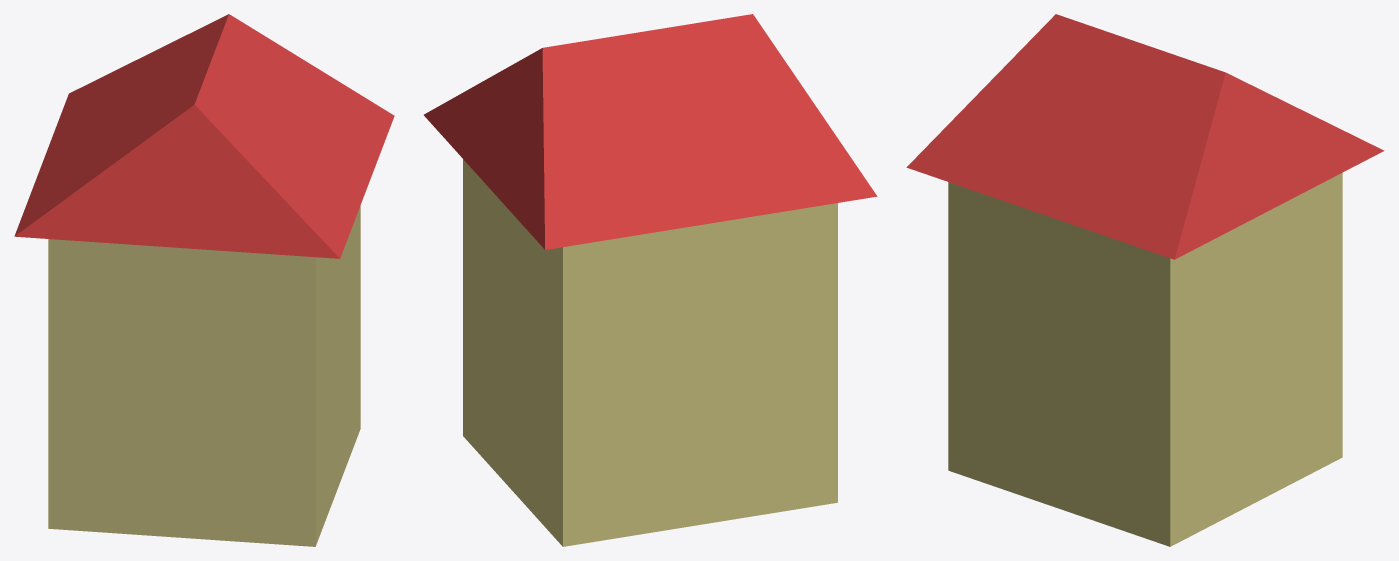
3 views of the same model, side by side, from view 1: azimuth 30°, elevation 25°; view 2: azimuth 150°, elevation 25°; view 3: azimuth 270°, elevation 25° (orthographic). The views are drawn at different scales.
Parts seen in each view (by area): view 1: group_5, group_3, group_4; view 2: group_5, group_3, group_4; view 3: group_5, group_3, group_4.
Boxes of the visible parts, x1,y1,x2,y2 form: group_5: [48, 206, 360, 546]; group_3: [14, 14, 392, 258]; group_4: [65, 57, 394, 258]; group_5: [463, 159, 837, 546]; group_3: [434, 14, 877, 249]; group_4: [424, 83, 606, 249]; group_5: [948, 173, 1342, 546]; group_3: [907, 14, 1384, 259]; group_4: [906, 113, 1383, 259].
Bounding box in the file's own units: 15.95 × 16.02 × 15.64.
